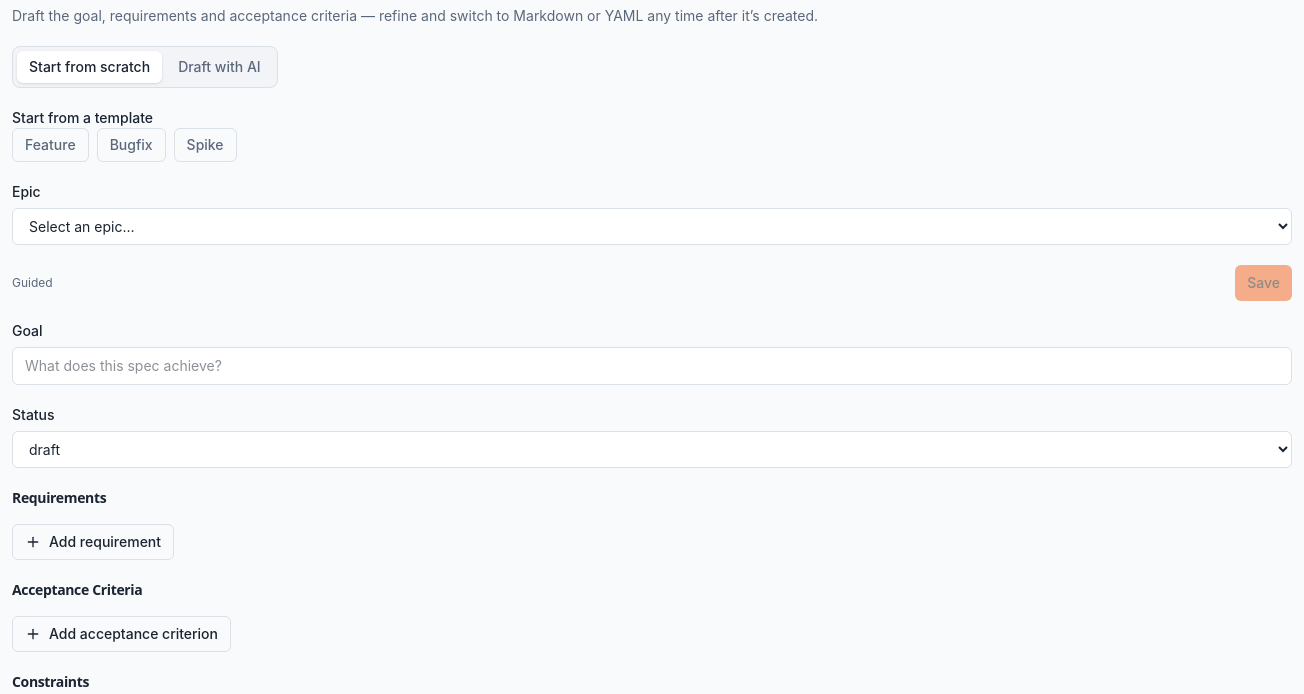
Test: NewSpecPage › lists epics to pick from and disables create until an epic + goal are set
This screenshot has width=1304, height=694.
Select "Auth overhaul" in the dropdown with test id "new-spec-epic" at (652, 226), box [12,208,1292,245]
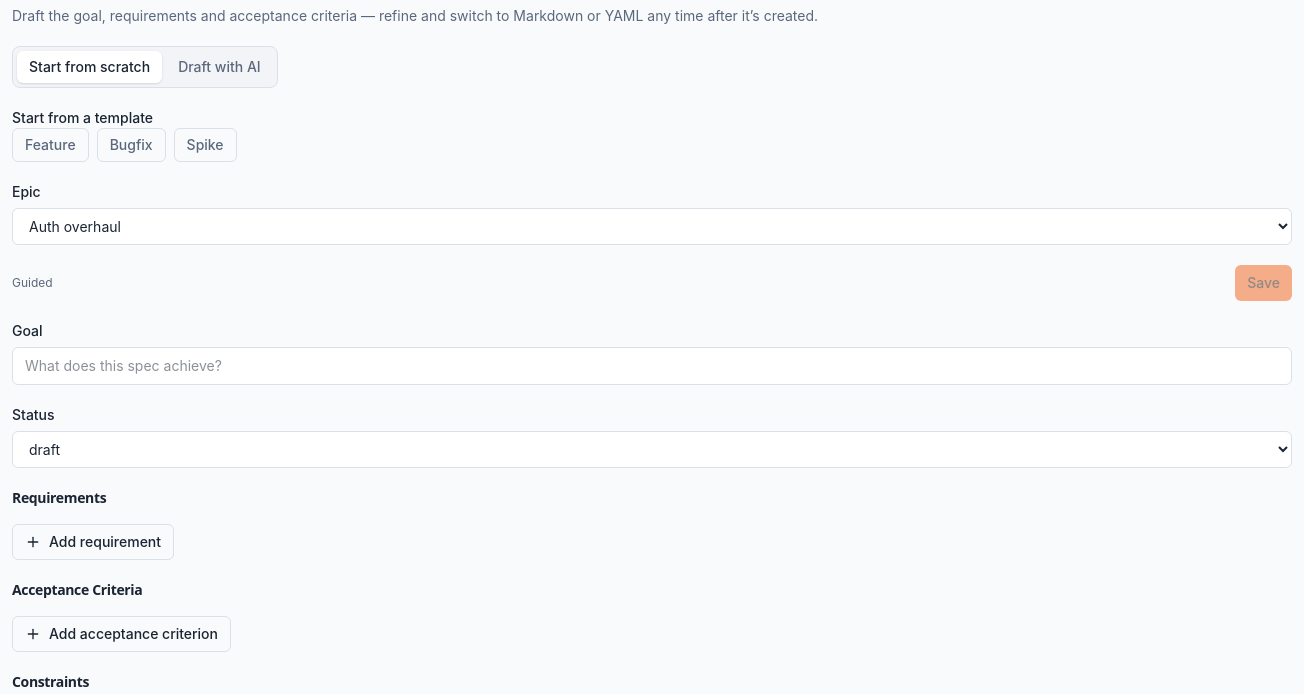
Type "Passwordless auth" into the field with test id "guided-name" at (652, 366), box [12,347,1292,385]
(page scrolled)
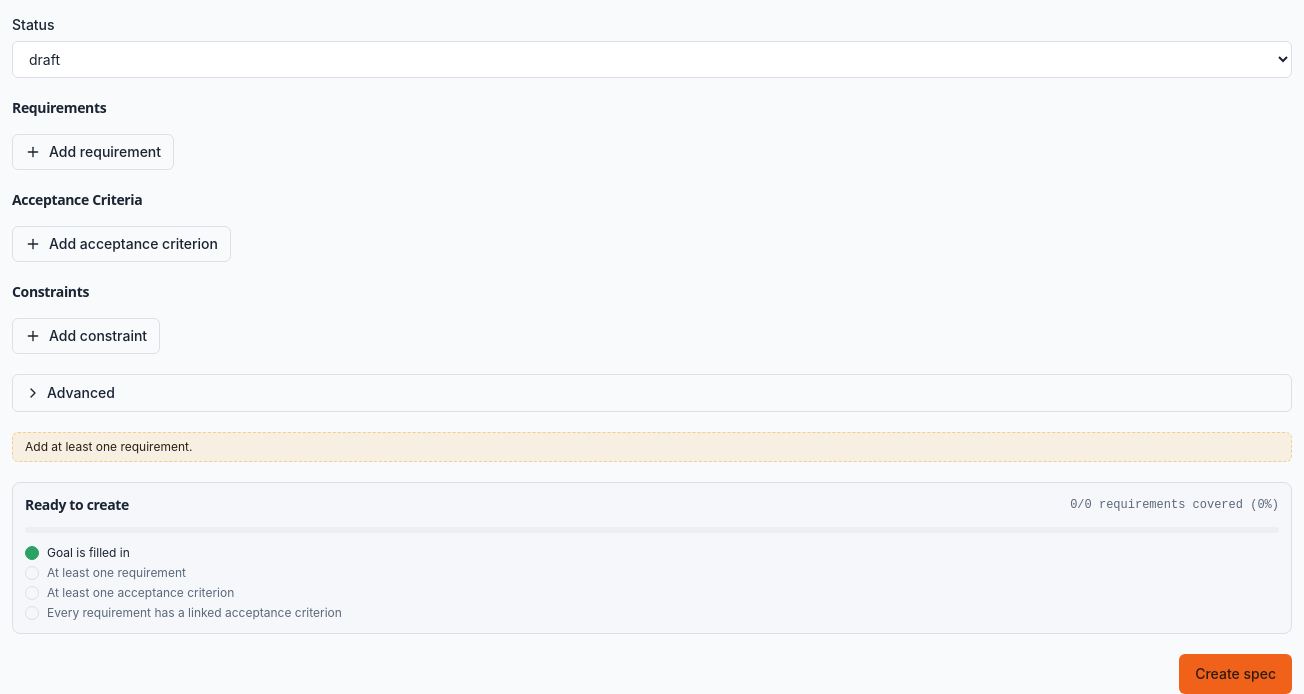
Expected: the button with test id "create-spec" is enabled, [1179,654,1292,693]
